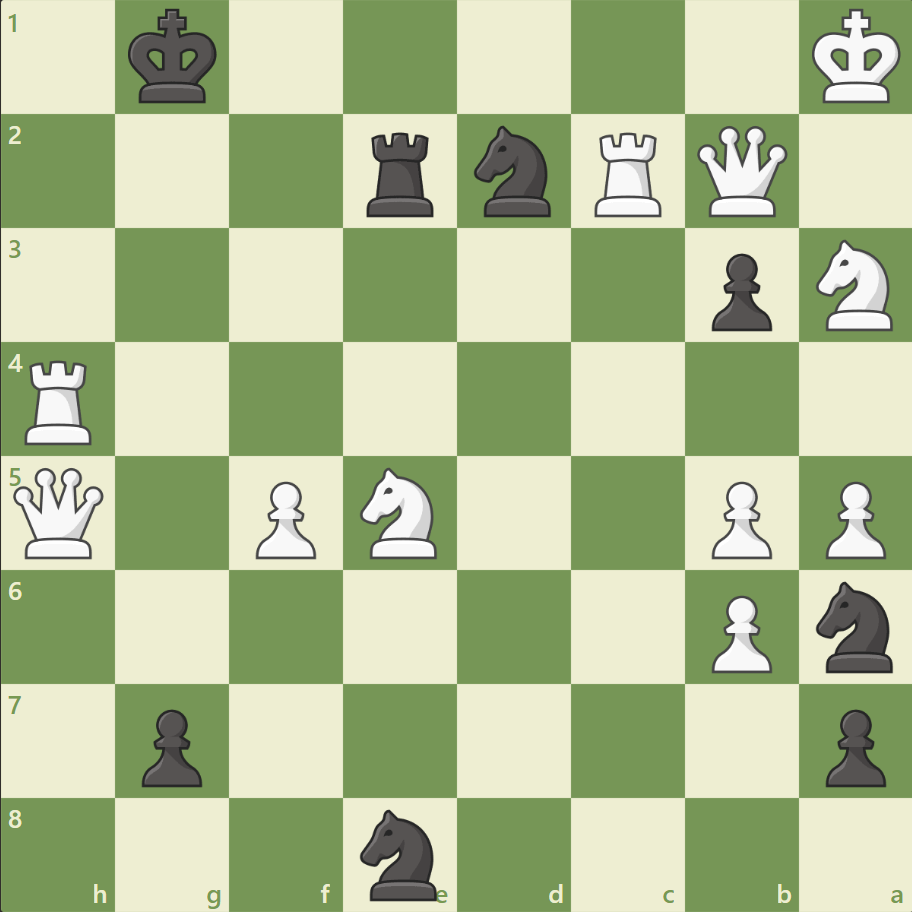K: (806, 4, 906, 112)
N: (351, 461, 449, 564), (806, 234, 903, 337)
P: (701, 586, 776, 677), (701, 473, 776, 564), (247, 473, 322, 564), (815, 473, 889, 564)
Q: (691, 122, 790, 222), (10, 463, 109, 562)
R: (19, 352, 102, 449), (587, 125, 670, 222)
k: (124, 4, 224, 112)
n: (351, 802, 449, 904), (806, 575, 903, 677), (465, 121, 562, 223)
p: (133, 700, 208, 791), (701, 246, 776, 337), (815, 700, 889, 791)
r: (360, 125, 442, 222)
